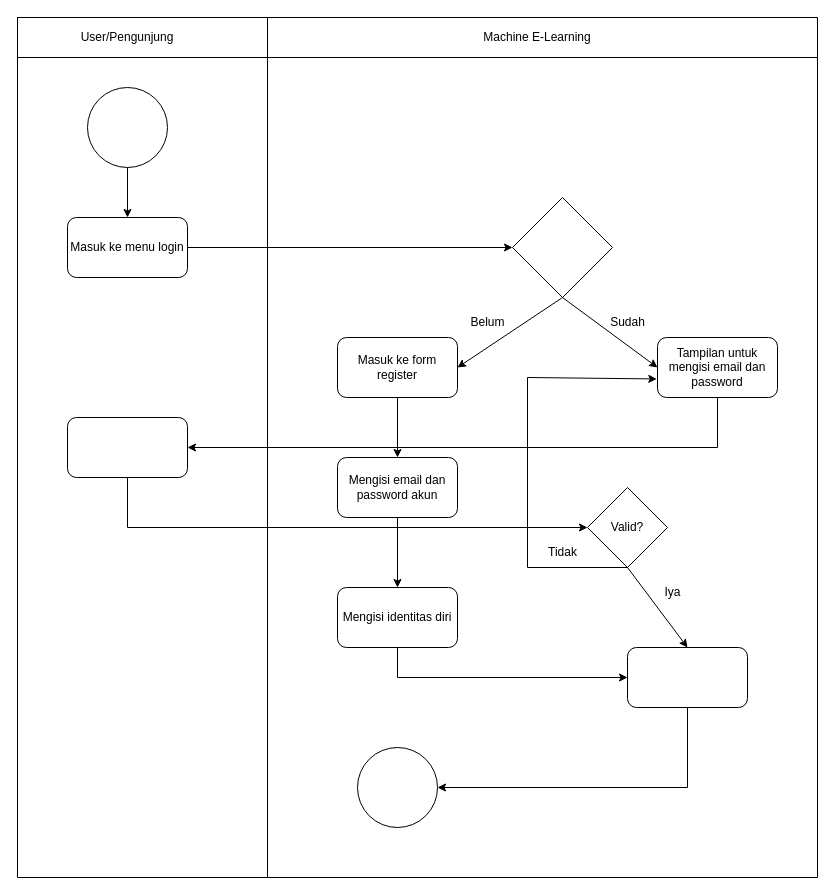
The diagram is 835 pixels wide and 895 high, and some of its shapes have lost their labels. The centre of each missing label's shape, as x and y in pixels:
Beranda website pembelian tiket kolam renang: point 687,677
Mengisi email dan password: point 127,447
Sudah register?: point 562,247
